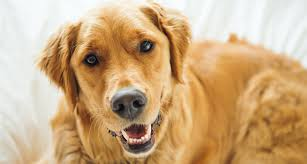Bulldog: (28, 1, 303, 164)
